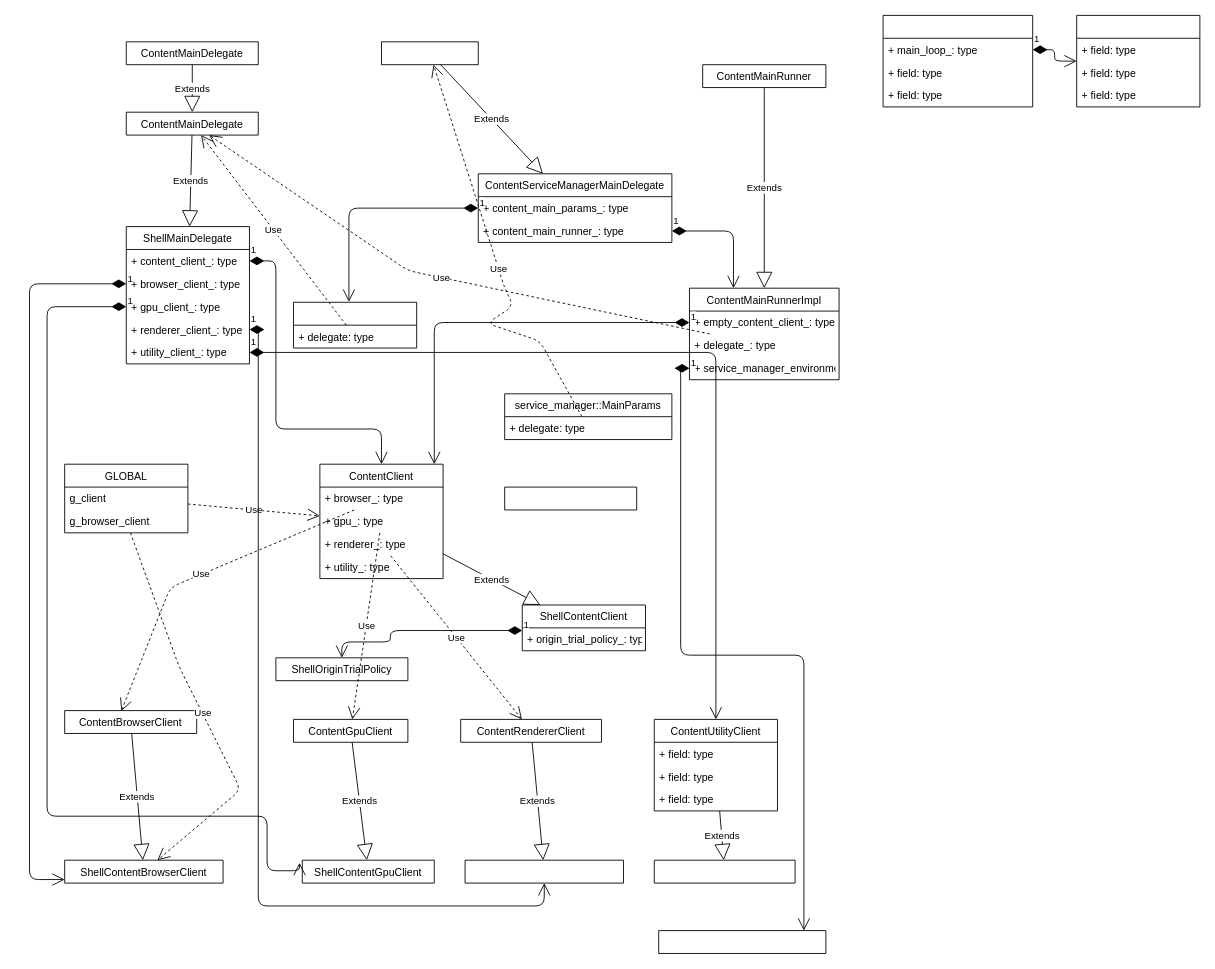
The diagram is 1215 pixels wide and 969 high, and some of its shapes have lost their labels. Each missing label, with the box of its shape:
BrowserMainLoop: (1076, 15, 1200, 107)
BrowserMainRunnerImpl: (882, 15, 1033, 107)
ContentClientInitializer: (504, 486, 637, 510)
ContentMainParams: (293, 301, 417, 348)
MainDelegate: (381, 41, 478, 65)
ServiceManagerEnvironment: (658, 930, 826, 953)
ShellContentRendererClient: (464, 859, 623, 883)
ShellContentUtilityClient: (653, 859, 795, 883)
